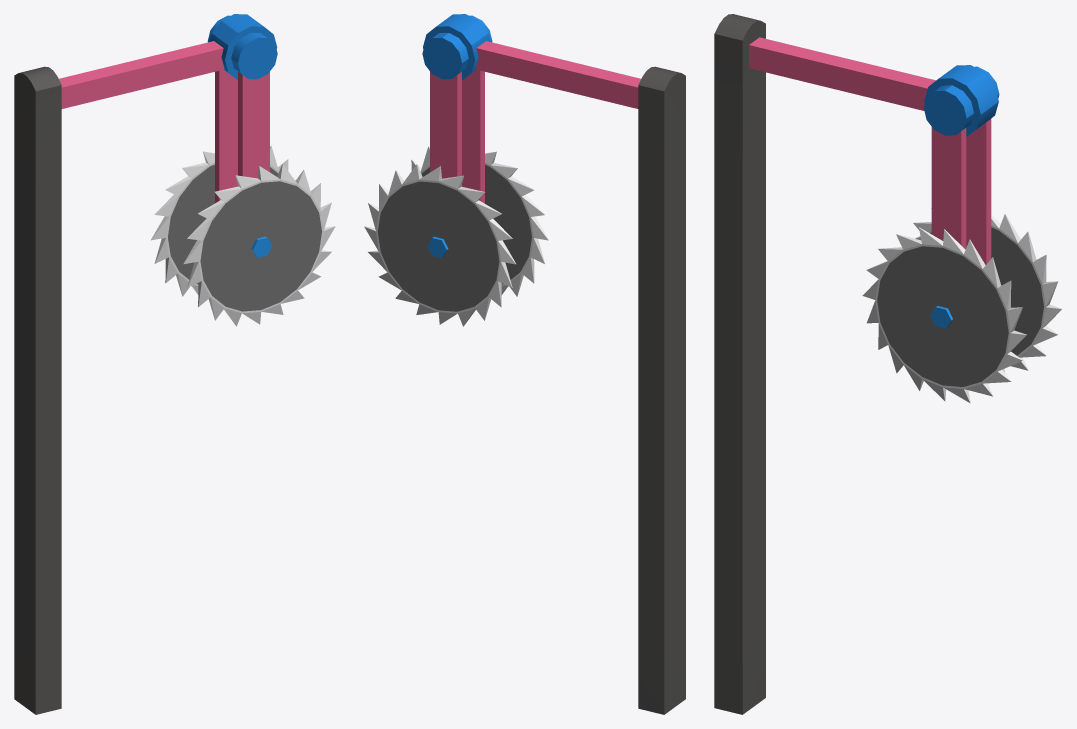
Rendered from trap_010.fbx.
The picture shows the model from 3 angles, left to right: view 1: azimuth 30°, elevation 25°; view 2: azimuth 150°, elevation 25°; view 3: azimuth 330°, elevation 25°; orthographic projection. The views are drawn at different scales.
Visible parts, largest first — view 1: trap_010, xrotate; view 2: trap_010, xrotate; view 3: trap_010, xrotate.
Boxes of the visible parts, box(x1,y1,x2,y2) form: trap_010: box(14, 14, 277, 714); xrotate: box(151, 70, 335, 326); trap_010: box(422, 14, 685, 714); xrotate: box(364, 70, 548, 326); trap_010: box(714, 14, 999, 714); xrotate: box(862, 119, 1061, 403).
Size of the model in its own units: 1162 by 2390 by 270.
